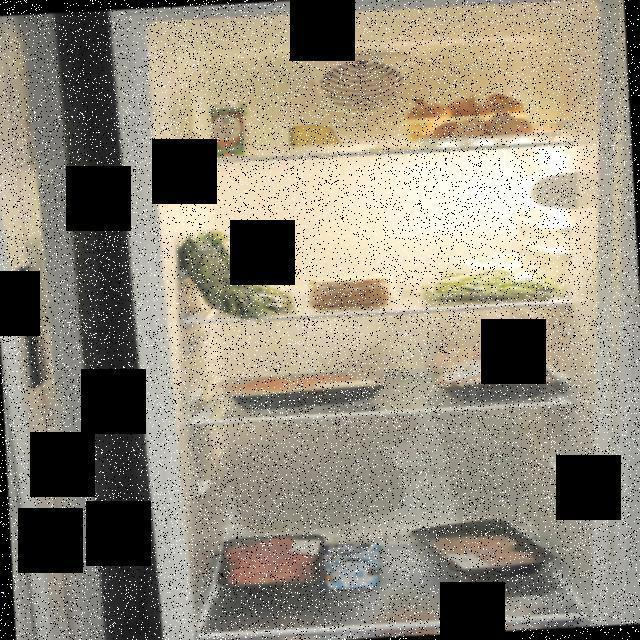beef: (213, 366, 392, 414)
bread: (307, 271, 399, 311)
cheese: (287, 120, 345, 156)
chicken: (422, 337, 558, 409)
chicken_breast: (405, 514, 558, 586)
chocolate: (316, 538, 386, 593)
egg: (429, 111, 534, 148)
green_beans: (418, 260, 570, 308)
ground_beef: (210, 532, 330, 601)
heavy_cream: (208, 98, 248, 161)
onion: (401, 89, 526, 148)
spinach: (178, 224, 294, 320)
